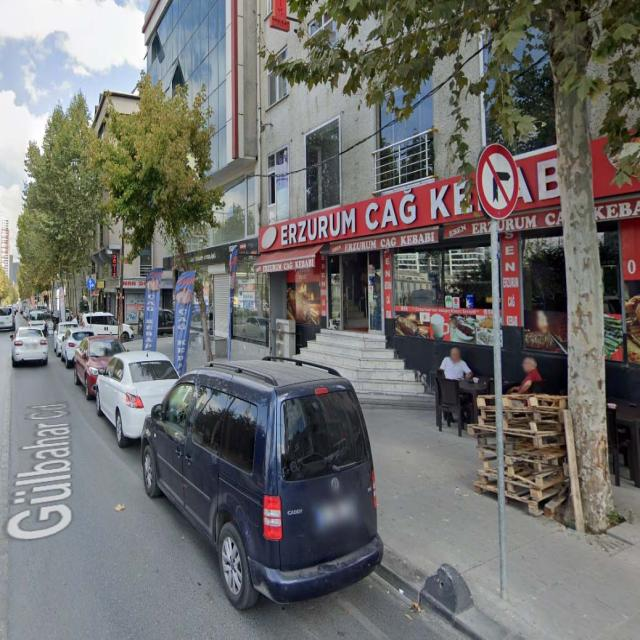sagadonulmez: (476, 142, 519, 218)
